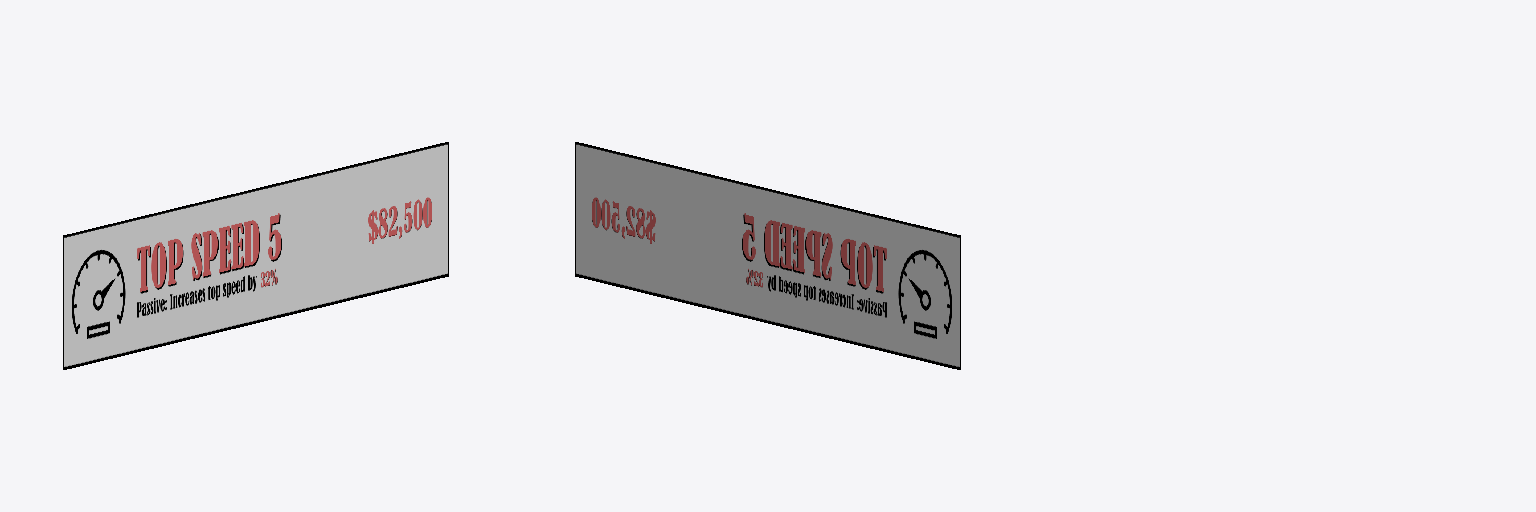
3 renders of one model, left to right at view 1: azimuth 30°, elevation 25°; view 2: azimuth 150°, elevation 25°; view 3: azimuth 270°, elevation 25°, orthographic.
Parts seen in each view (by area): view 1: Plane.003; view 2: Plane.003; view 3: none.
Part boxes in pixels (left/top/right/bottom): Plane.003: left=63, top=142, right=448, bottom=369; Plane.003: left=575, top=142, right=960, bottom=369.
Bounding box in the file's own units: 0.9 × 0.3 × 0.
1 materials, 1 textured.